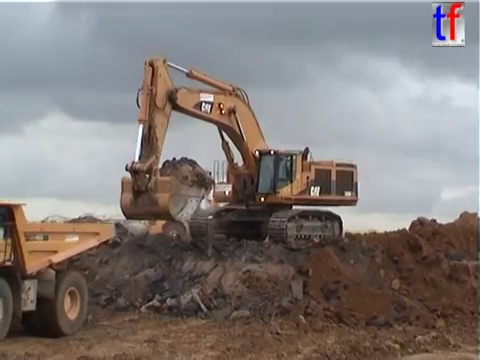excavator: (117, 55, 361, 252)
truck: (1, 199, 117, 344), (140, 190, 295, 248)
